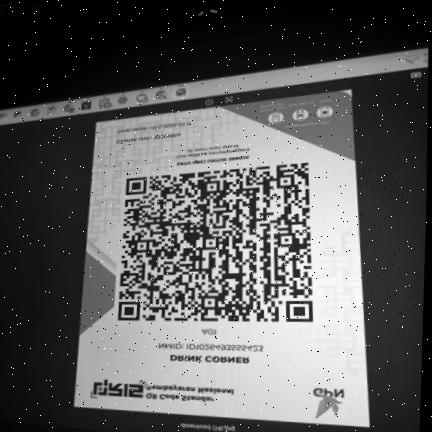Cara Pakai QRIS: (251, 90, 352, 136)
Cek Aplikasi Penyelenggara: (173, 140, 255, 160)
Dicetak Oleh: (112, 130, 186, 146)
Logo GPN: (305, 383, 350, 423)
Logo dan deskripsi QRIS: (86, 375, 243, 412)
Nama Merchant: (167, 352, 253, 366)
National Merchant ID: (154, 341, 267, 353)
QR Code: (112, 158, 318, 325)
Slogan: (173, 153, 253, 168)
Terminal ID: (197, 327, 221, 336)
Versi Cetak: (112, 117, 195, 136)
